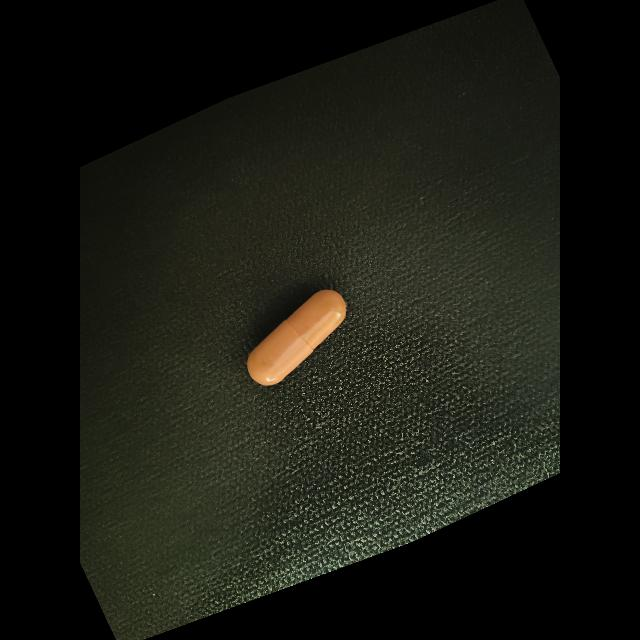Intact Capsule: (247, 290, 347, 386)
